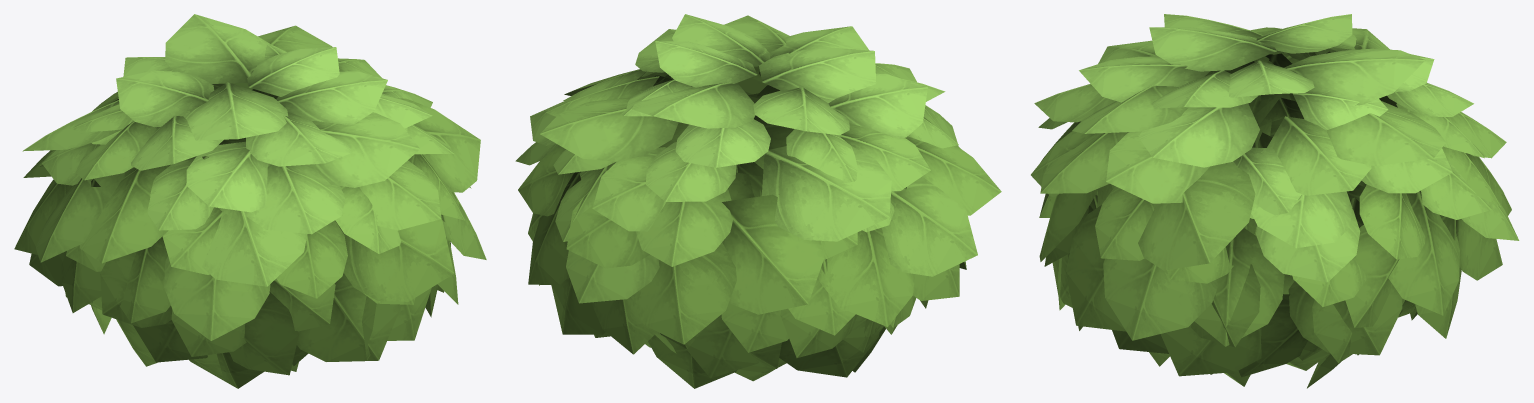
3 renders of one model, left to right at view 1: azimuth 30°, elevation 25°; view 2: azimuth 150°, elevation 25°; view 3: azimuth 270°, elevation 25°, orthographic. The views are drawn at different scales.
Visible parts, largest first — view 1: grid_2_leaves_LOD0; view 2: grid_2_leaves_LOD0; view 3: grid_2_leaves_LOD0.
Boxes of the visible parts, x1,y1,x2,y2 form: grid_2_leaves_LOD0: (14, 14, 486, 388); grid_2_leaves_LOD0: (515, 14, 1001, 388); grid_2_leaves_LOD0: (1031, 14, 1519, 388).
Size of what is drawn, in the model's own units: 1.45 by 0.9437 by 1.36.
Materials: 1 (1 with a texture image).
